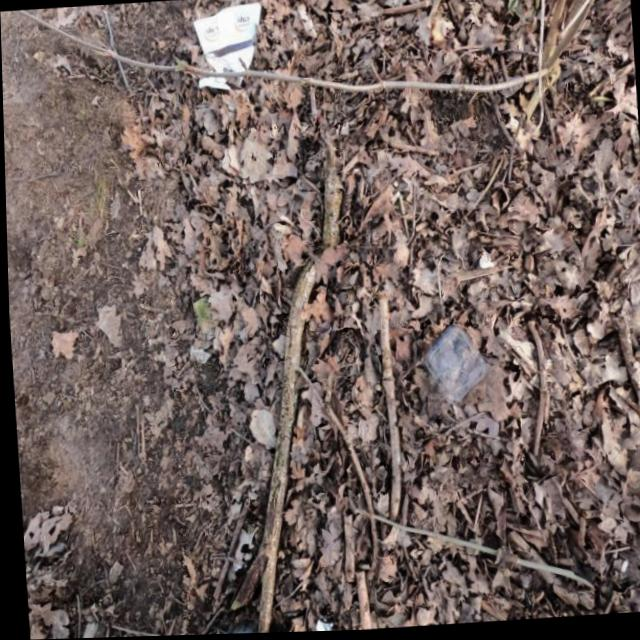Cup: (190, 1, 268, 94)
Plastic: (417, 324, 487, 410)
